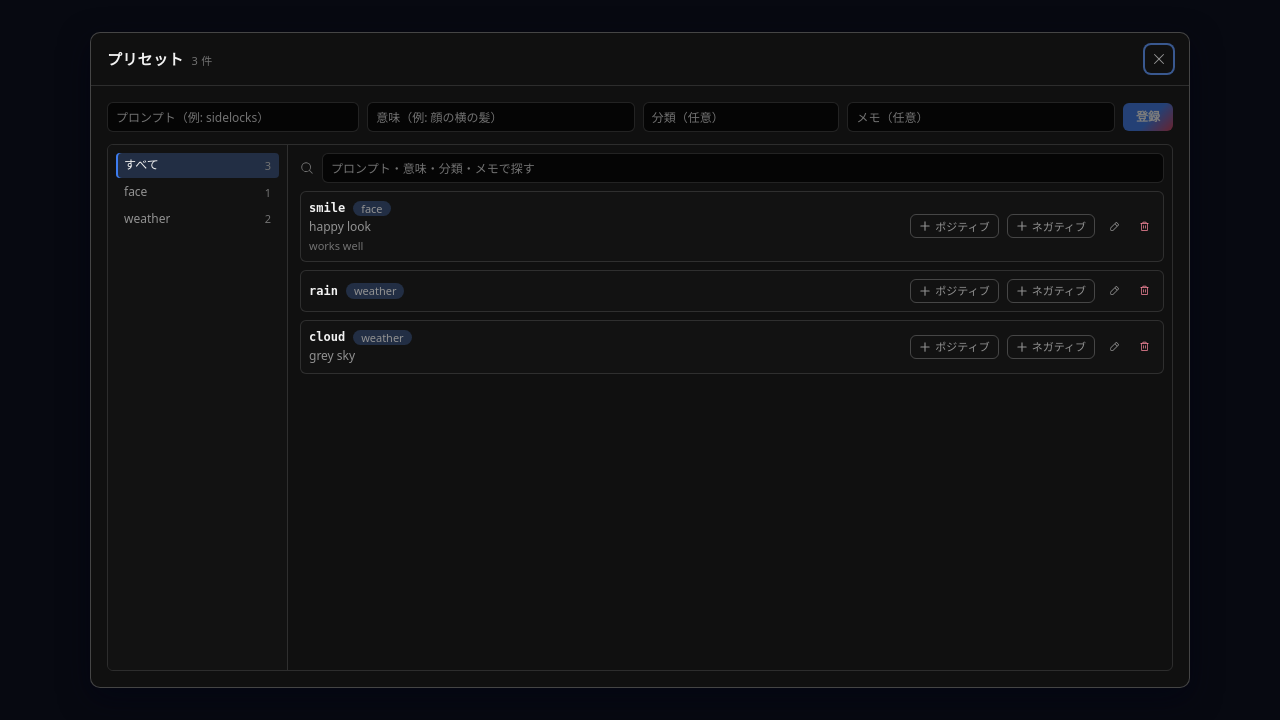
Test case: registering and editing › edits an entry in the form and can stop editing
Click the button named "編集" in the row of "happy look" at (1114, 226), box [1103,216,1125,238]
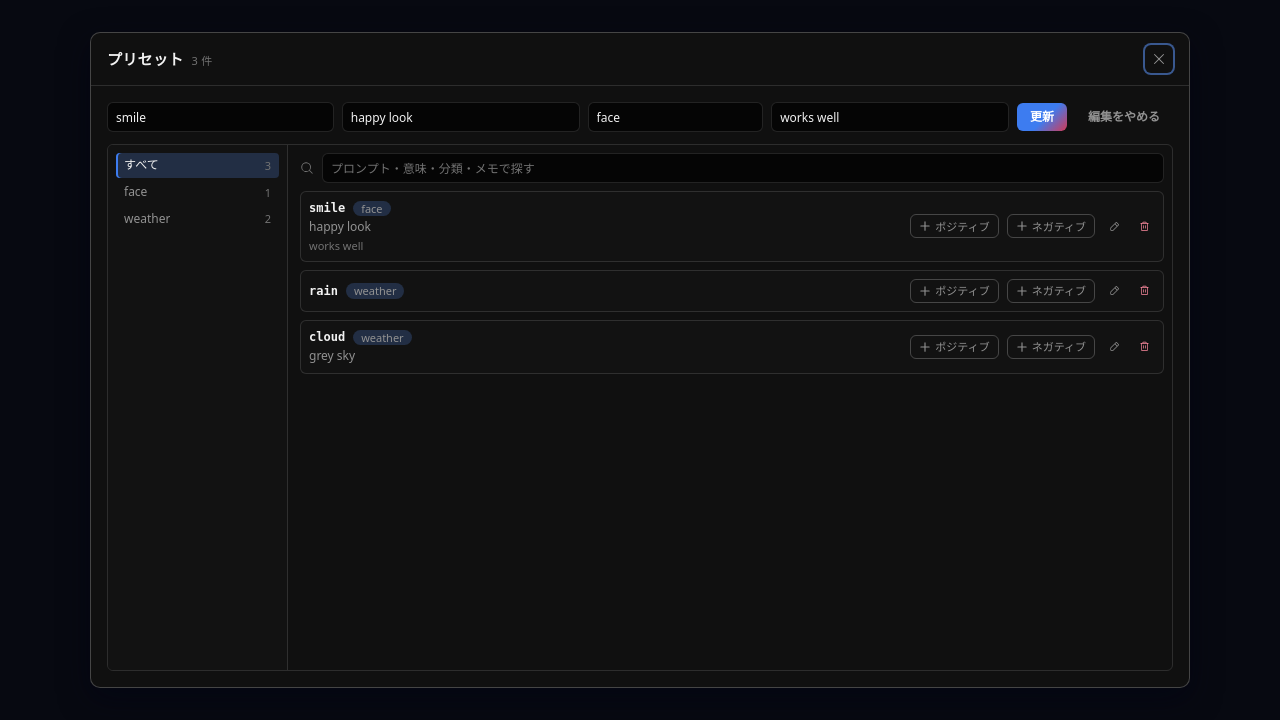
Click the button with test id "pb-cancel-edit" at (1124, 117), box [1075,103,1173,131]
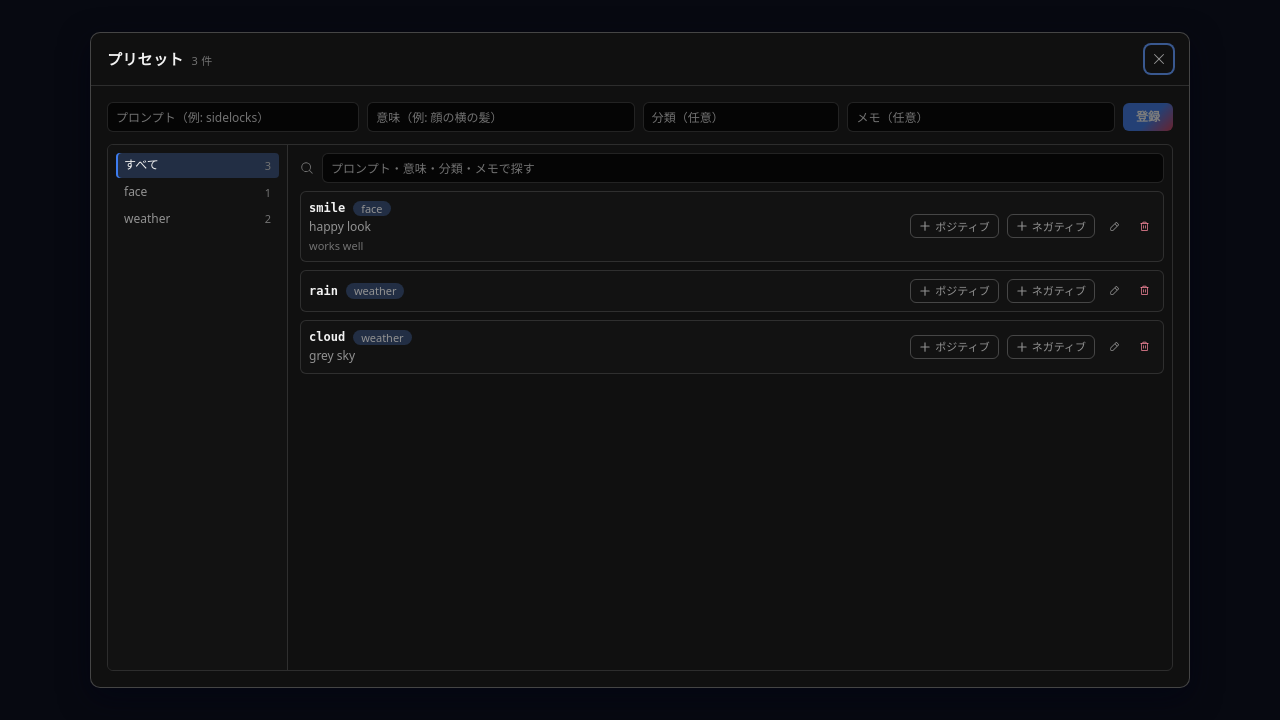
Click the button named "編集" in the row of "happy look" at (1114, 226), box [1103,216,1125,238]
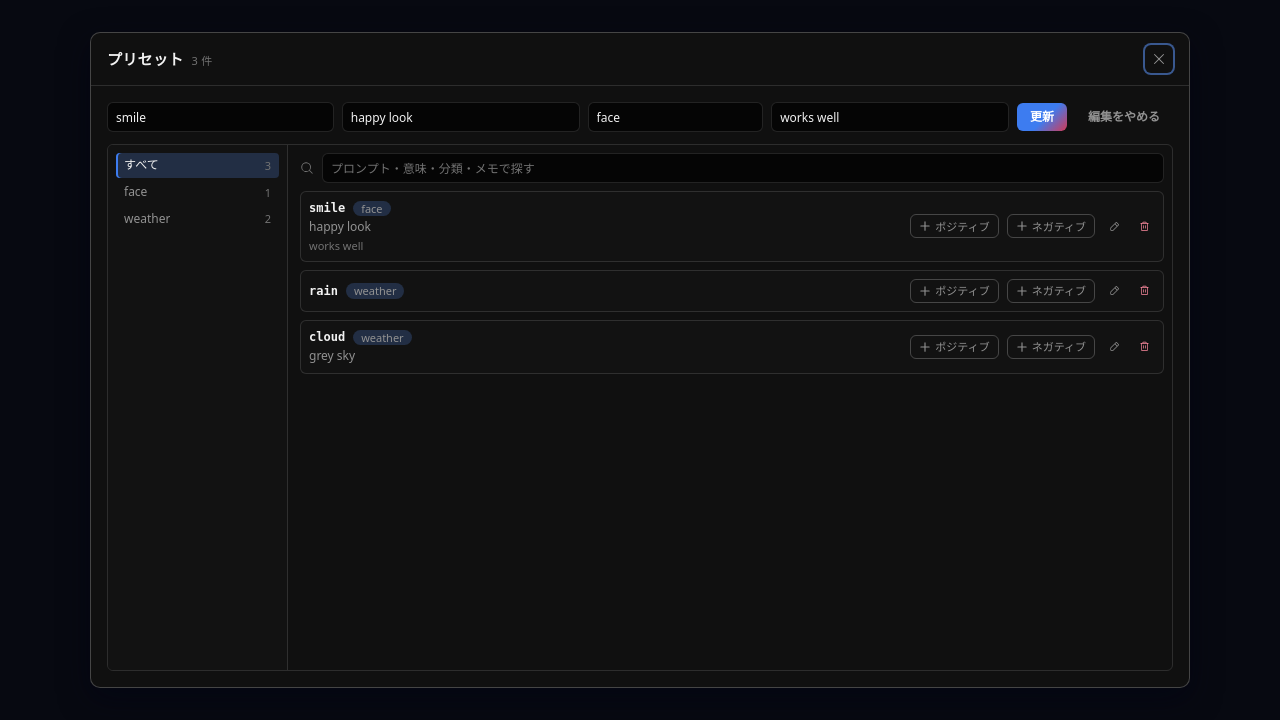
Replace the text in the field named "プロンプト" with "grin" at (220, 117), box [107,102,334,132]
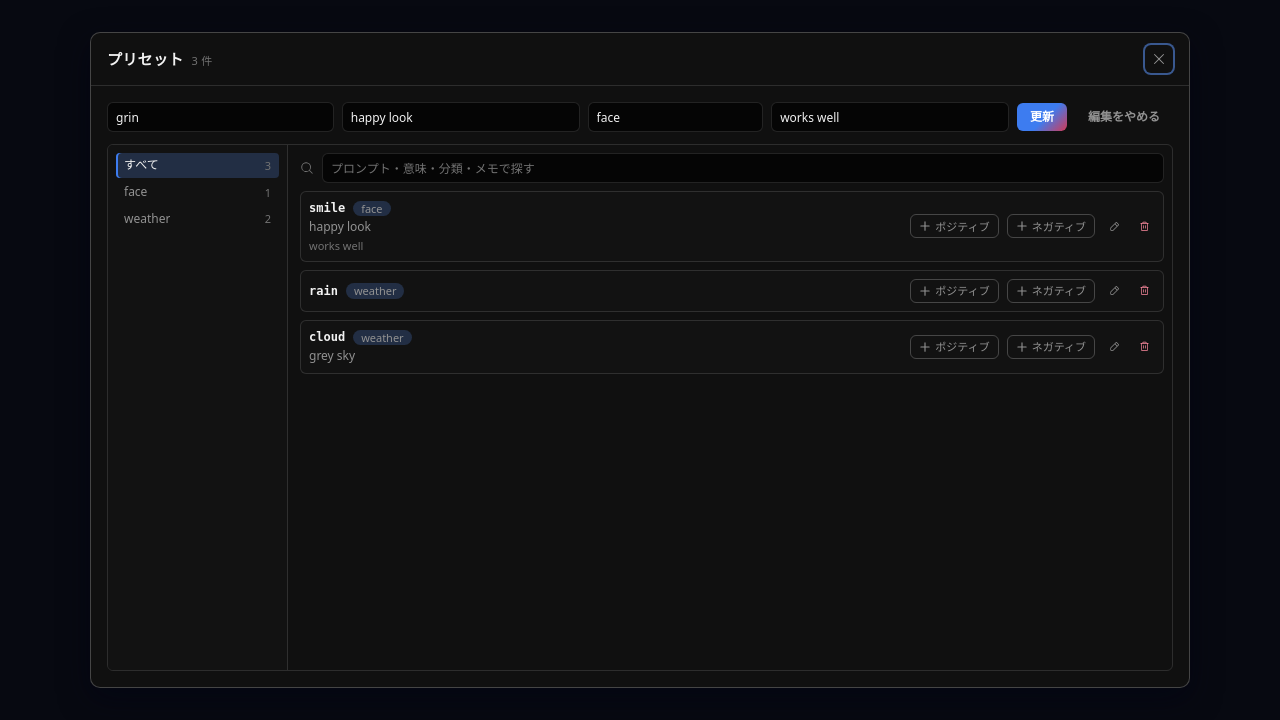
Click the button with test id "pb-submit" at (1042, 117), box [1017,103,1067,131]
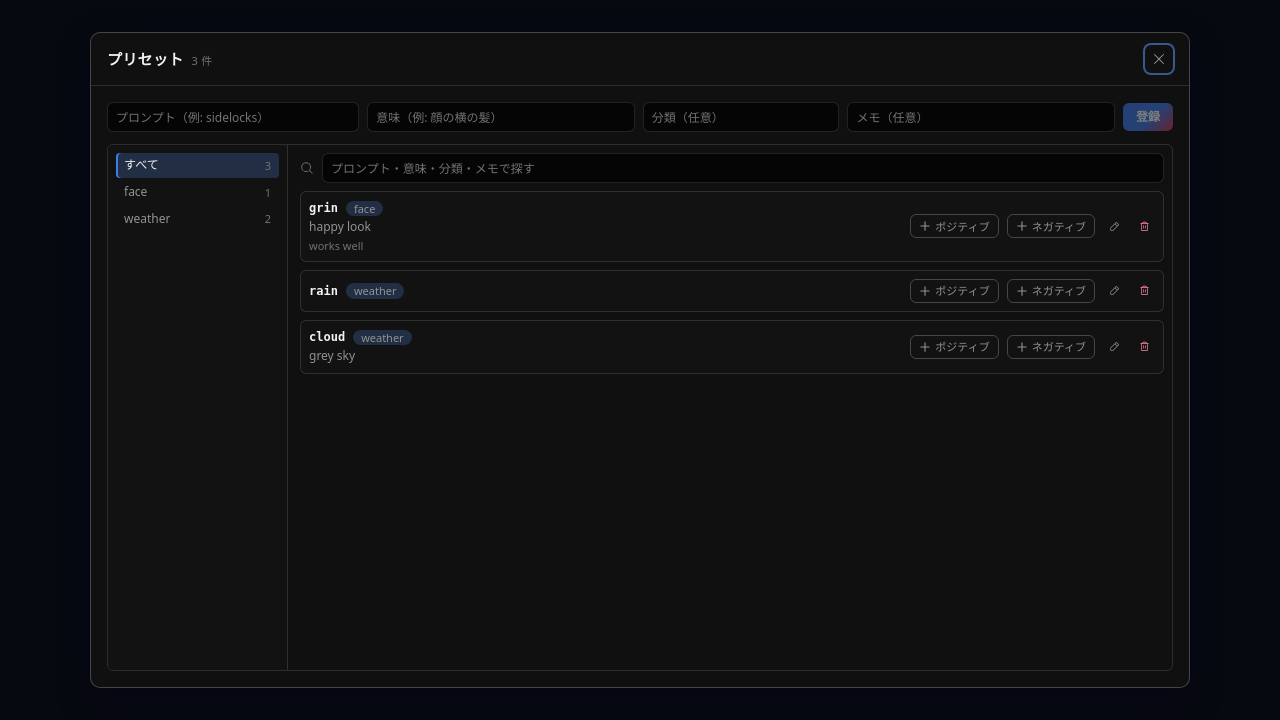
expect the text "smile" reads "grin": met, box [309,201,338,215]
expect the button with test id "pb-cancel-edit" is gone: met
